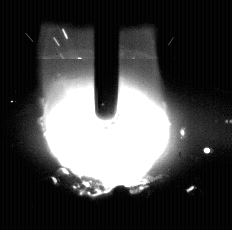arame: (95, 0, 119, 128)
poca: (41, 0, 172, 230)
